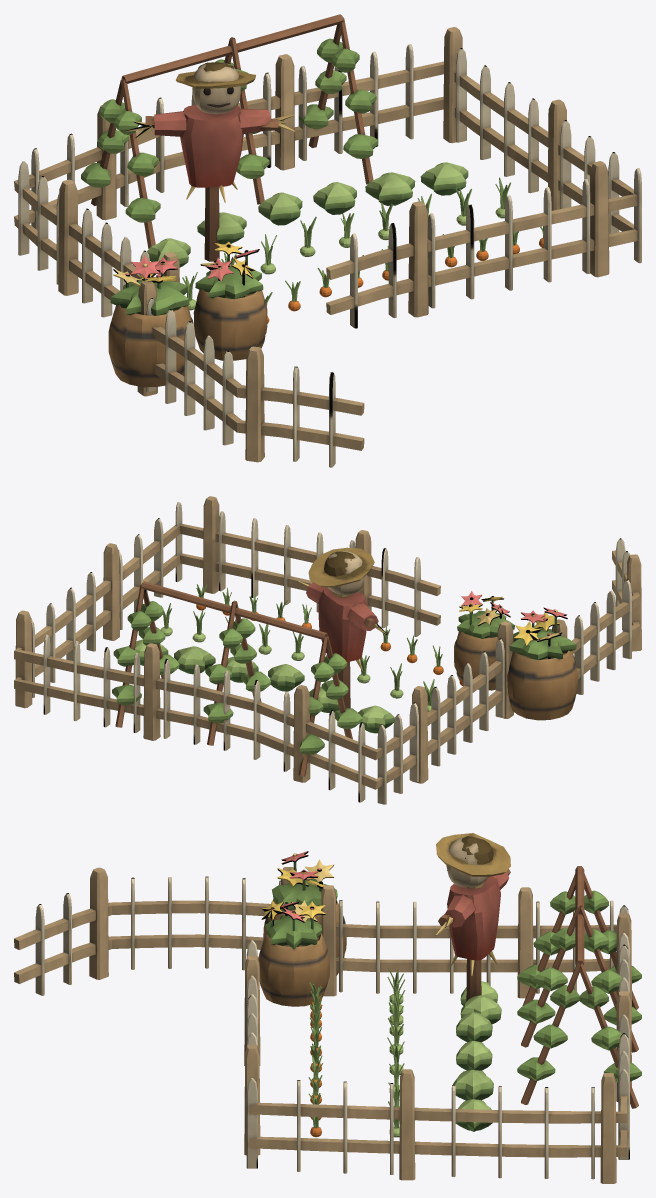
Rendered from foundation_garden.glb.
3 views of the same model, one above another, from view 1: azimuth 30°, elevation 25°; view 2: azimuth 150°, elevation 25°; view 3: azimuth 270°, elevation 25° (orthographic). The views are drawn at different scales.
Parts seen in each view (by area): view 1: Garden, garden_f_crop; view 2: Garden, garden_f_crop; view 3: Garden, garden_f_crop.
Part boxes in pixels (bbox=[...]): Garden: bbox=[14, 14, 641, 467]; garden_f_crop: bbox=[182, 177, 543, 306]; Garden: bbox=[14, 496, 641, 804]; garden_f_crop: bbox=[161, 584, 442, 705]; Garden: bbox=[14, 833, 641, 1183]; garden_f_crop: bbox=[308, 967, 405, 1128].
Bounding box in the file's own units: 4.05 × 1.69 × 4.53.
2 materials, 1 textured.
